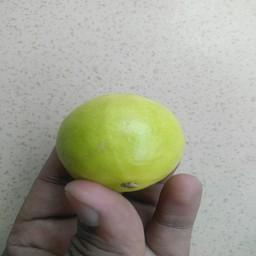Good_lime: (52, 90, 187, 191)
